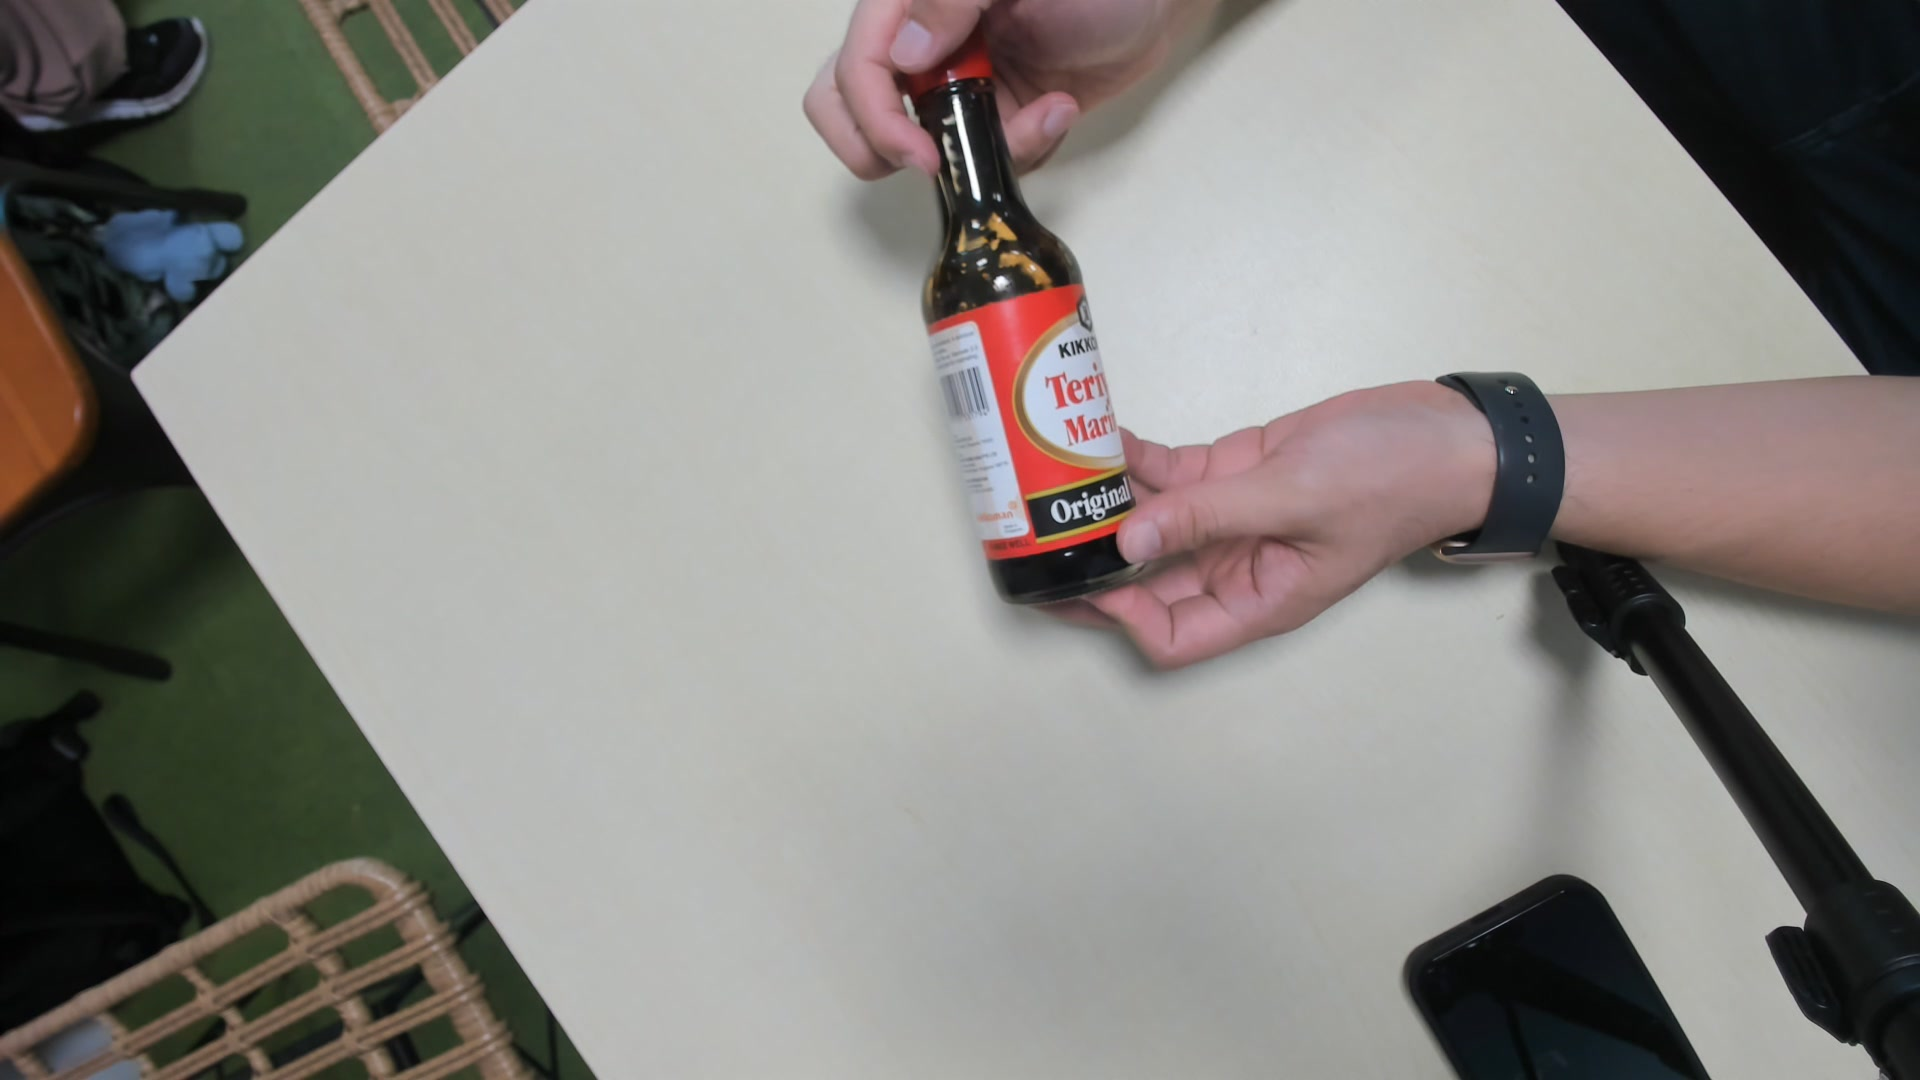OtherSauceDressing_200-299g_NonHalal_NonHealthy: (913, 49, 1147, 608)
